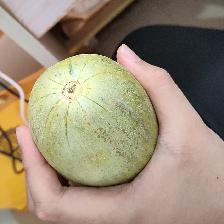gua: (38, 72, 139, 169)
